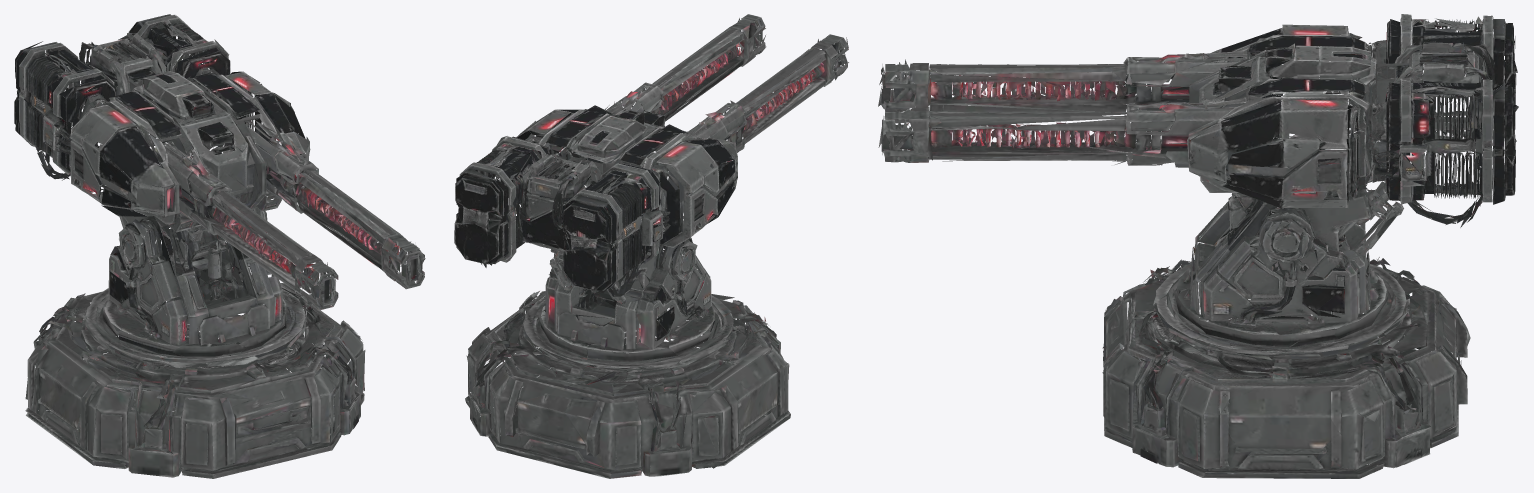
The model's file is tower_rail.glb.
The picture shows the model from 3 angles, left to right: view 1: azimuth 30°, elevation 25°; view 2: azimuth 150°, elevation 25°; view 3: azimuth 270°, elevation 25°; orthographic projection. The views are drawn at different scales.
Parts seen in each view (by area): view 1: head, base; view 2: head, base; view 3: head, base.
Part boxes in pixels (x1=…): head: x1=14, y1=14, x2=425, y2=310; base: x1=25, y1=241, x2=365, y2=478; head: x1=454, y1=14, x2=848, y2=302; base: x1=465, y1=254, x2=790, y2=478; head: x1=878, y1=14, x2=1518, y2=269; base: x1=1102, y1=207, x2=1470, y2=478.
Bounding box in the file's own units: 0.7929 × 0.8558 × 1.4.
1 material, 1 textured.
